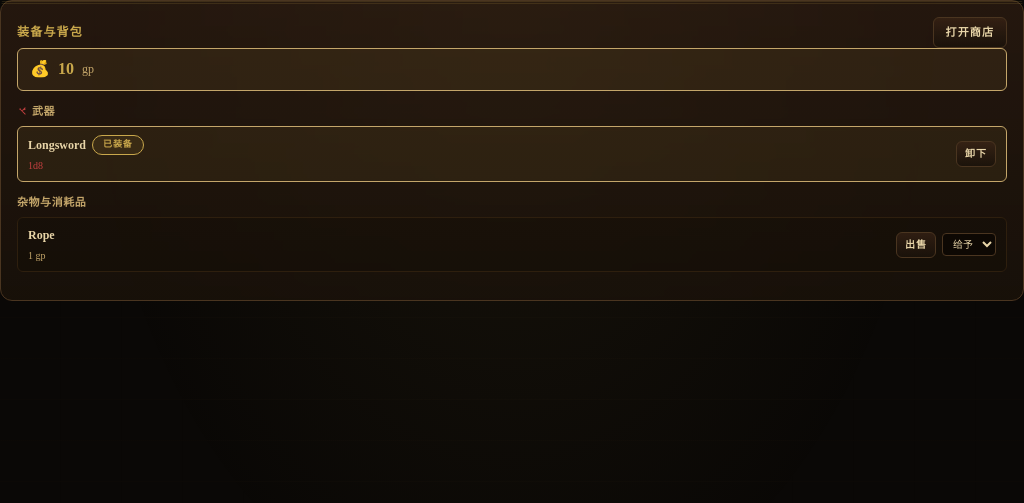
InventoryPanel › renders responsive inventory and shop layout hooks
Expected: the element with class "inventory-panel" is shown, 0,0 -> 1023,302
Expected: the element with class "inventory-panel-header" is shown, 17,17 -> 1007,48
Click the button with class "inventory-shop-toggle" at [970, 32], box 933,17 -> 1007,48
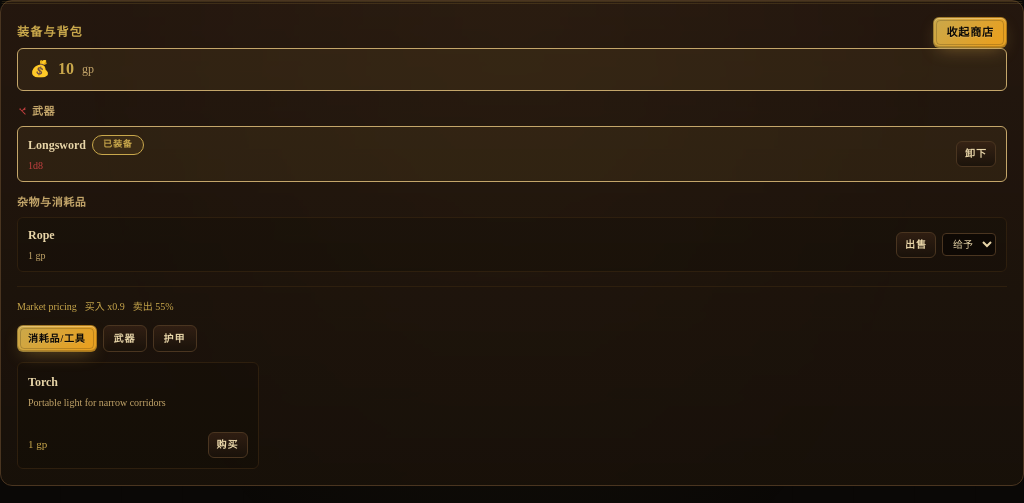
Expected: the element with class "inventory-shop-panel" is shown, 17,286 -> 1007,469
Expected: the element with class "dynamic" is shown, 17,302 -> 174,312
Expected: the element with class "inventory-shop-tabs" is shown, 17,325 -> 197,352
